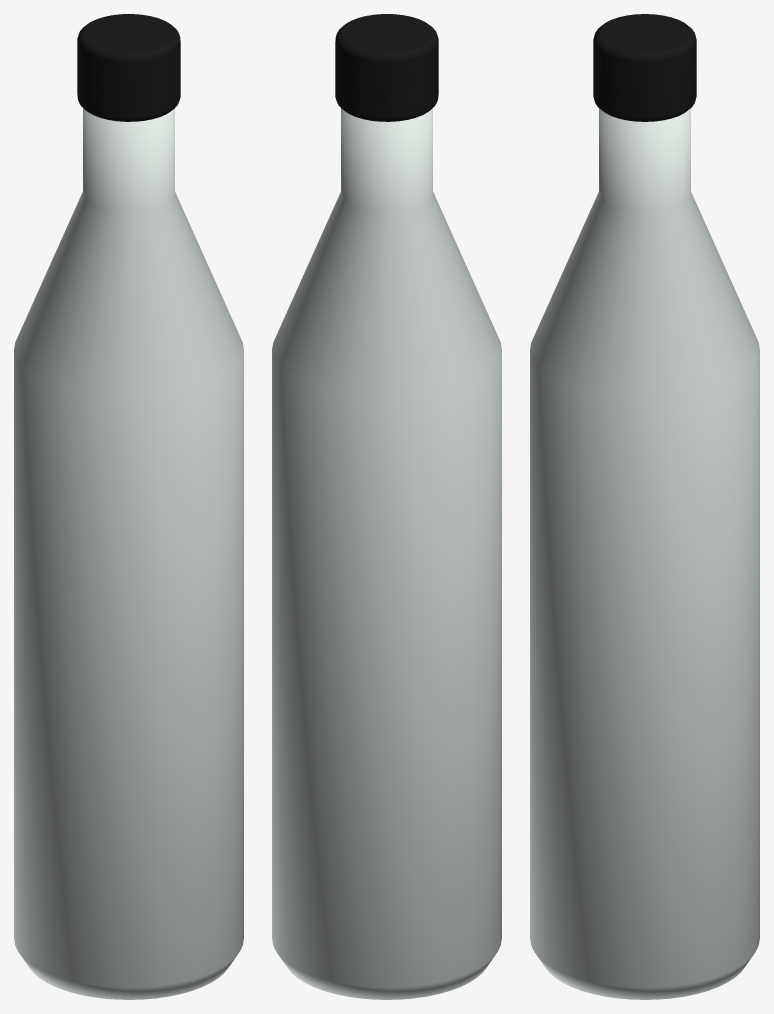
Rendered from olive-oil.glb.
3 renders of one model, left to right at view 1: azimuth 30°, elevation 25°; view 2: azimuth 150°, elevation 25°; view 3: azimuth 270°, elevation 25°, orthographic.
Visible parts, largest first — view 1: bottle_glass, cap_black; view 2: bottle_glass, cap_black; view 3: bottle_glass, cap_black.
Part boxes in pixels (x1,y1,x2,y2): bottle_glass: (14, 108, 243, 999); cap_black: (77, 14, 180, 121); bottle_glass: (272, 108, 501, 999); cap_black: (335, 14, 438, 121); bottle_glass: (530, 108, 759, 999); cap_black: (593, 14, 696, 121).
Size of the model in its own units: 0.06 by 0.266 by 0.06.
Materials: 3 (1 with a texture image).
